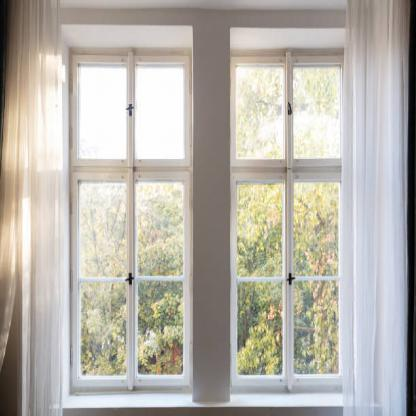Window: (69, 47, 191, 391), (233, 52, 342, 385)
